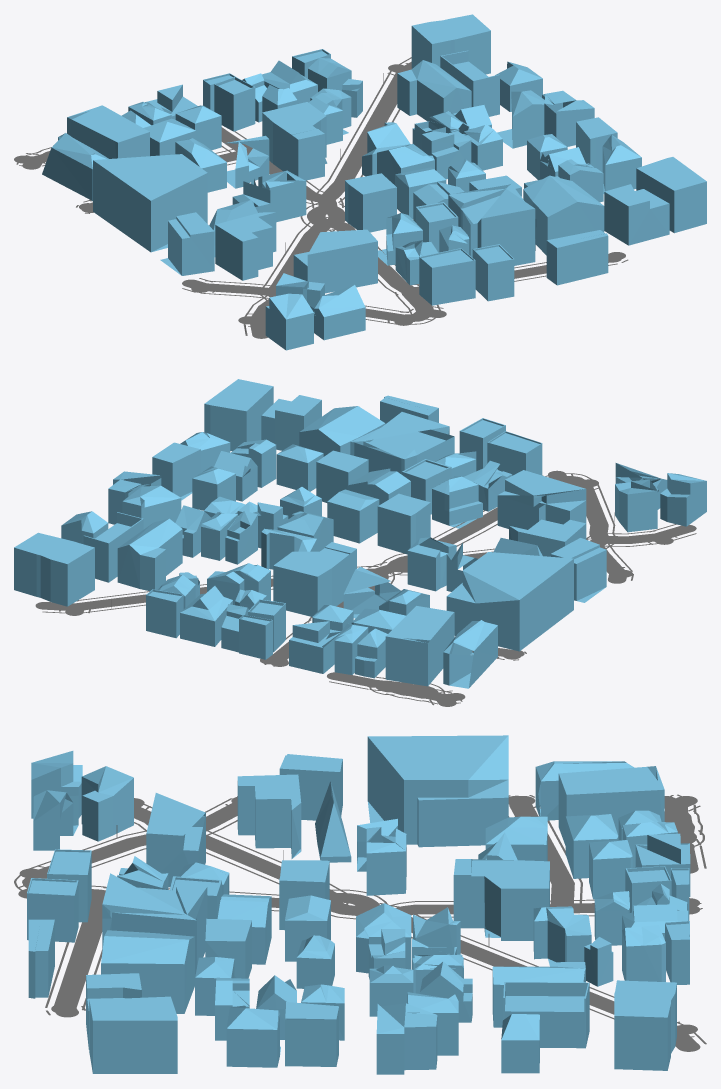
The model's file is results_route5_lod2.obj.
3 views of the same model, one above another, from view 1: azimuth 30°, elevation 25°; view 2: azimuth 150°, elevation 25°; view 3: azimuth 270°, elevation 25° (orthographic). The views are drawn at different scales.
Bounding box in the file's own units: 115 × 12.76 × 120.
